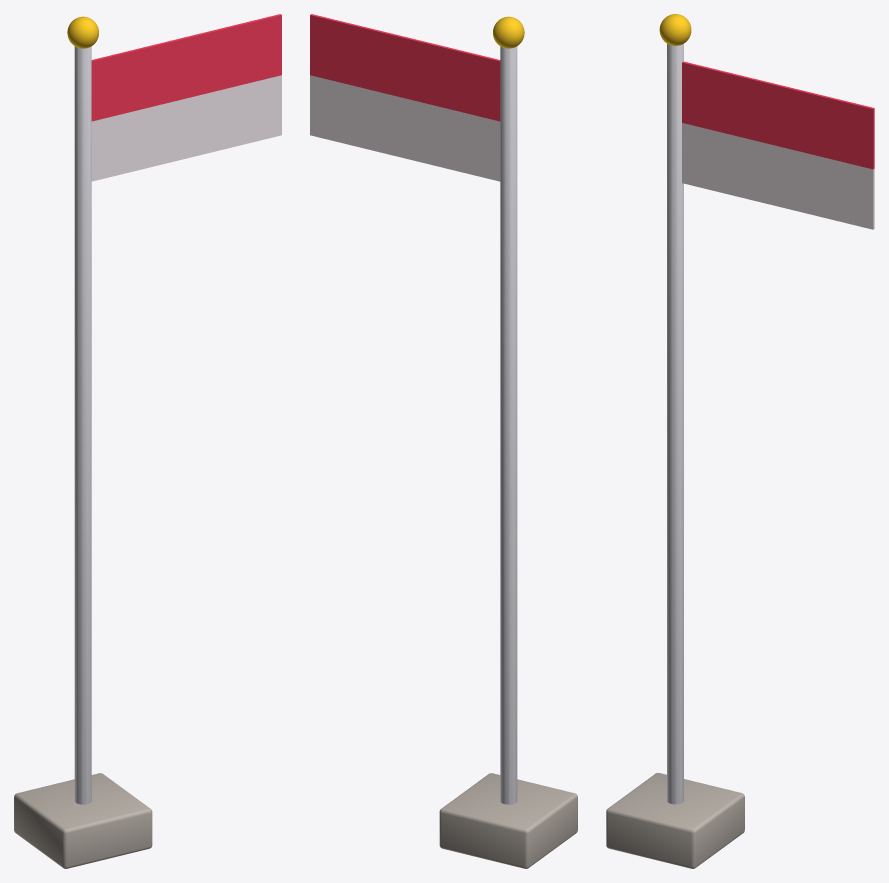
The model's file is bendera-rp.glb.
The picture shows the model from 3 angles, left to right: view 1: azimuth 30°, elevation 25°; view 2: azimuth 150°, elevation 25°; view 3: azimuth 330°, elevation 25°; orthographic projection.
Parts seen in each view (by area): view 1: Cylinder, Cube, Cube.001, Cube.002, Sphere; view 2: Cylinder, Cube, Cube.001, Cube.002, Sphere; view 3: Cylinder, Cube, Cube.001, Cube.002, Sphere.
Part boxes in pixels (<box>): Cylinder: <box>74,46,91,804</box>; Cube: <box>91,14,281,121</box>; Cube.001: <box>91,75,281,181</box>; Cube.002: <box>14,773,152,868</box>; Sphere: <box>67,16,98,48</box>; Cylinder: <box>500,46,517,804</box>; Cube: <box>310,14,500,121</box>; Cube.001: <box>310,75,500,181</box>; Cube.002: <box>439,773,577,868</box>; Sphere: <box>493,16,524,48</box>; Cylinder: <box>667,44,683,804</box>; Cube: <box>682,61,874,169</box>; Cube.001: <box>682,123,874,229</box>; Cube.002: <box>606,773,744,868</box>; Sphere: <box>659,14,691,45</box>.
Size of the model in its own units: 3.8 by 12.32 by 1.4.
